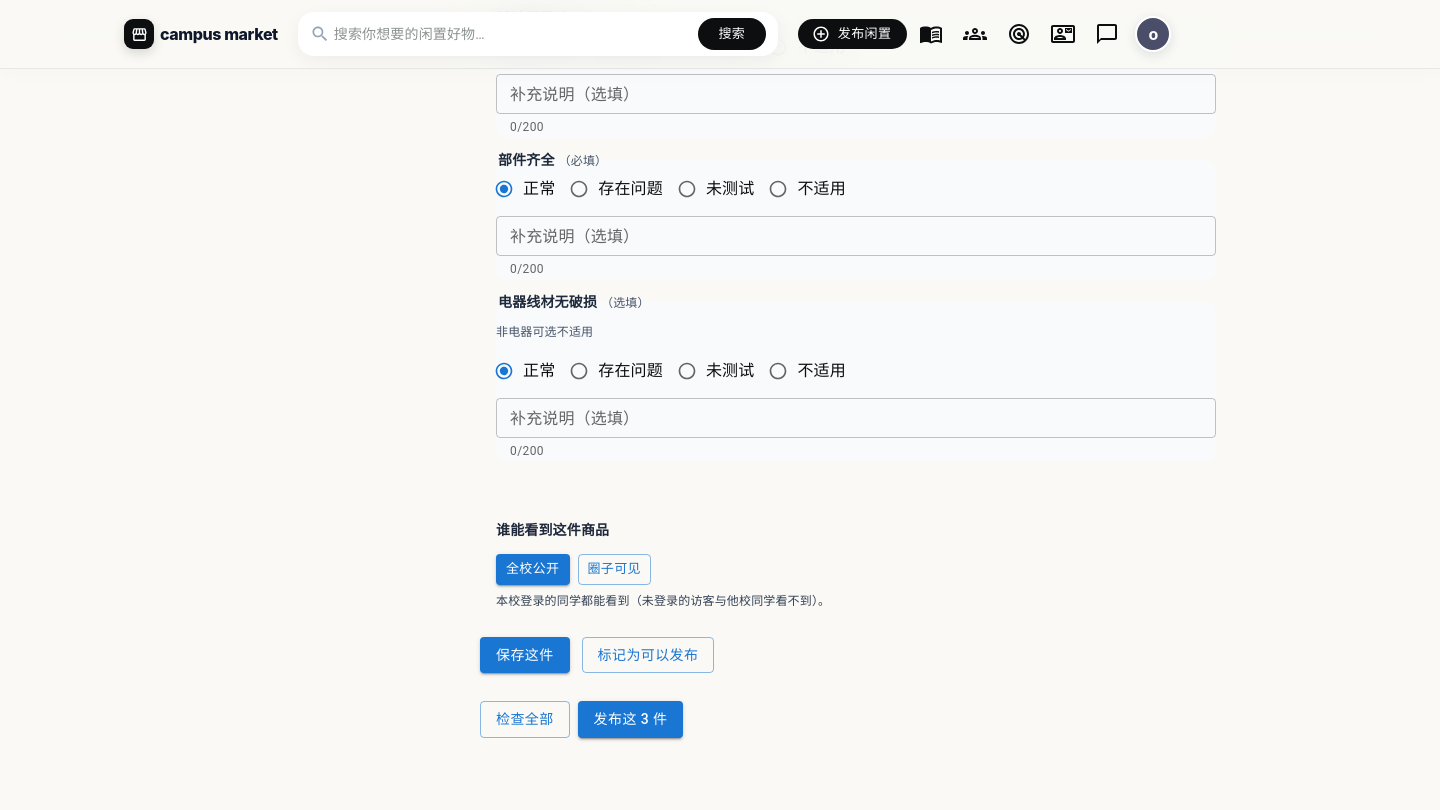
Test: 5.3 毕业季快速发布工作台 › 发布：一次确认；有协助人参与时写明「内容由他人协助整理，商品所有者已检查并确认发布。」；成功后结果标题获得焦点
(page scrolled)
Click the button "发布这 3 件".
click(630, 720)  # box [578,701,683,738]
(page scrolled)
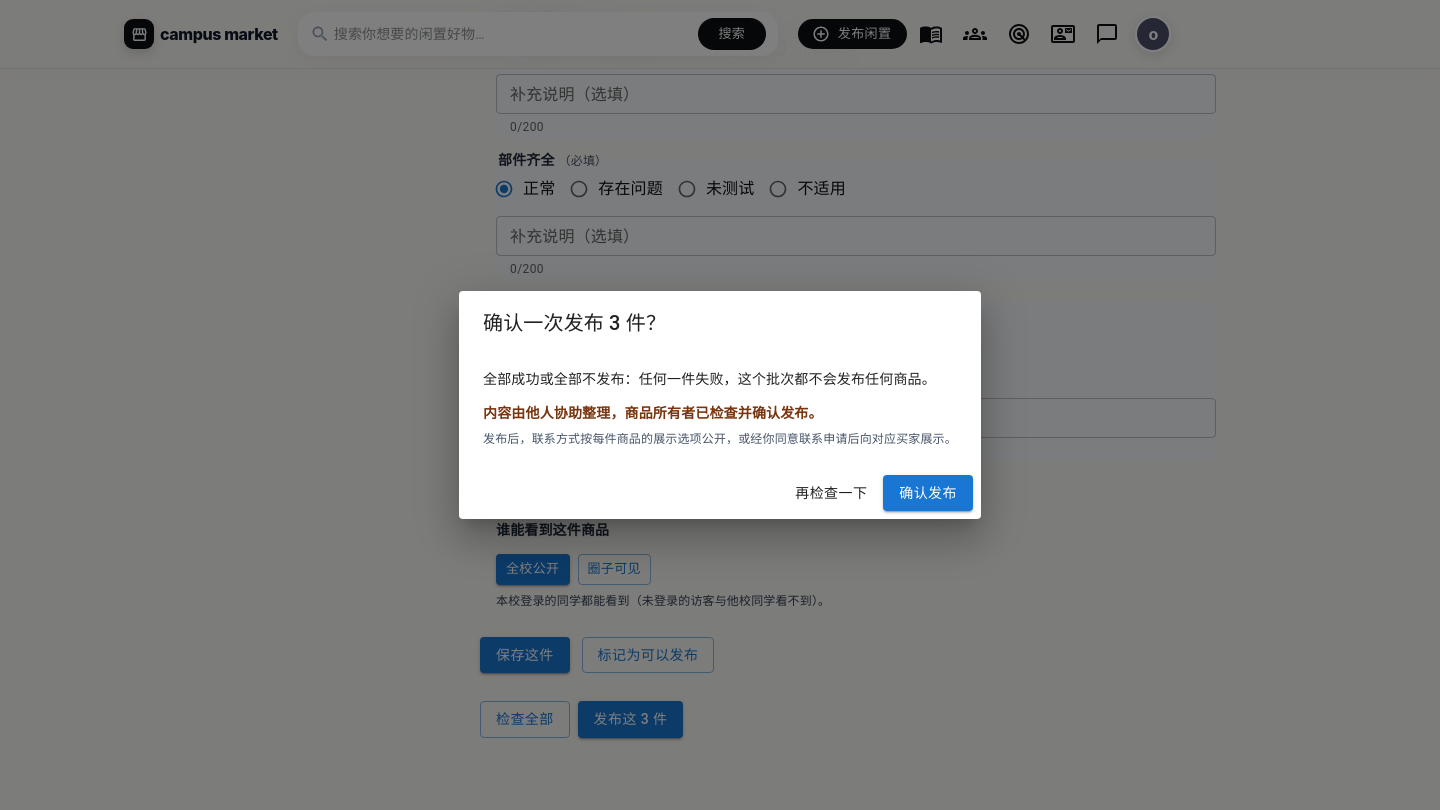
Expected: the dialog "确认一次发布 3 件？" shows "内容由他人协助整理，商品所有者已检查并确认发布。", [483,404,823,421]
Expected: the dialog "确认一次发布 3 件？" shows "全部成功或全部不发布", [483,370,936,387]
Click the button "确认发布".
click(928, 493)  # box [883,475,973,511]
(page scrolled)
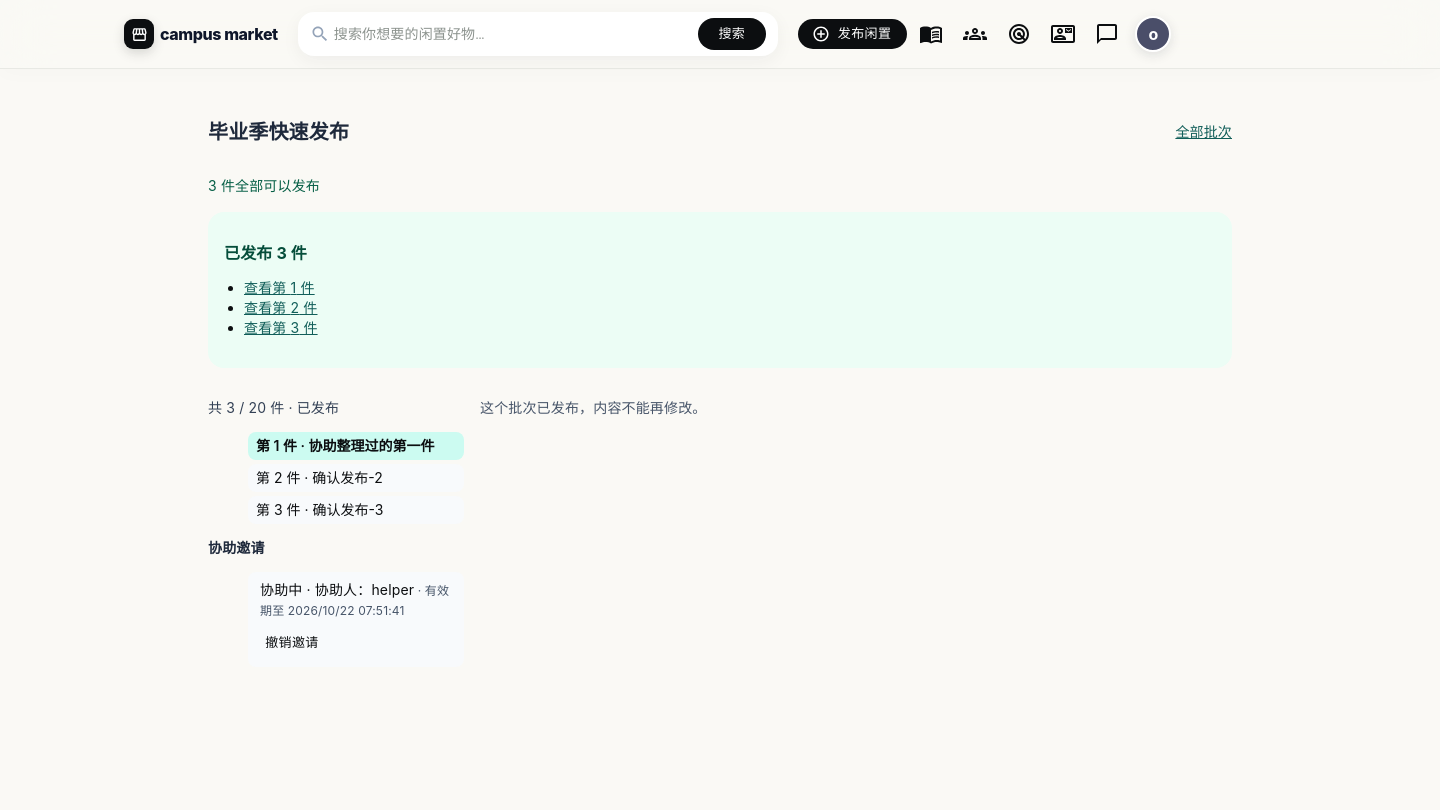
Expected: the number of links "查看第 1 件" is 3, [244,279,315,296]; [244,299,318,316]; [244,319,318,336]
